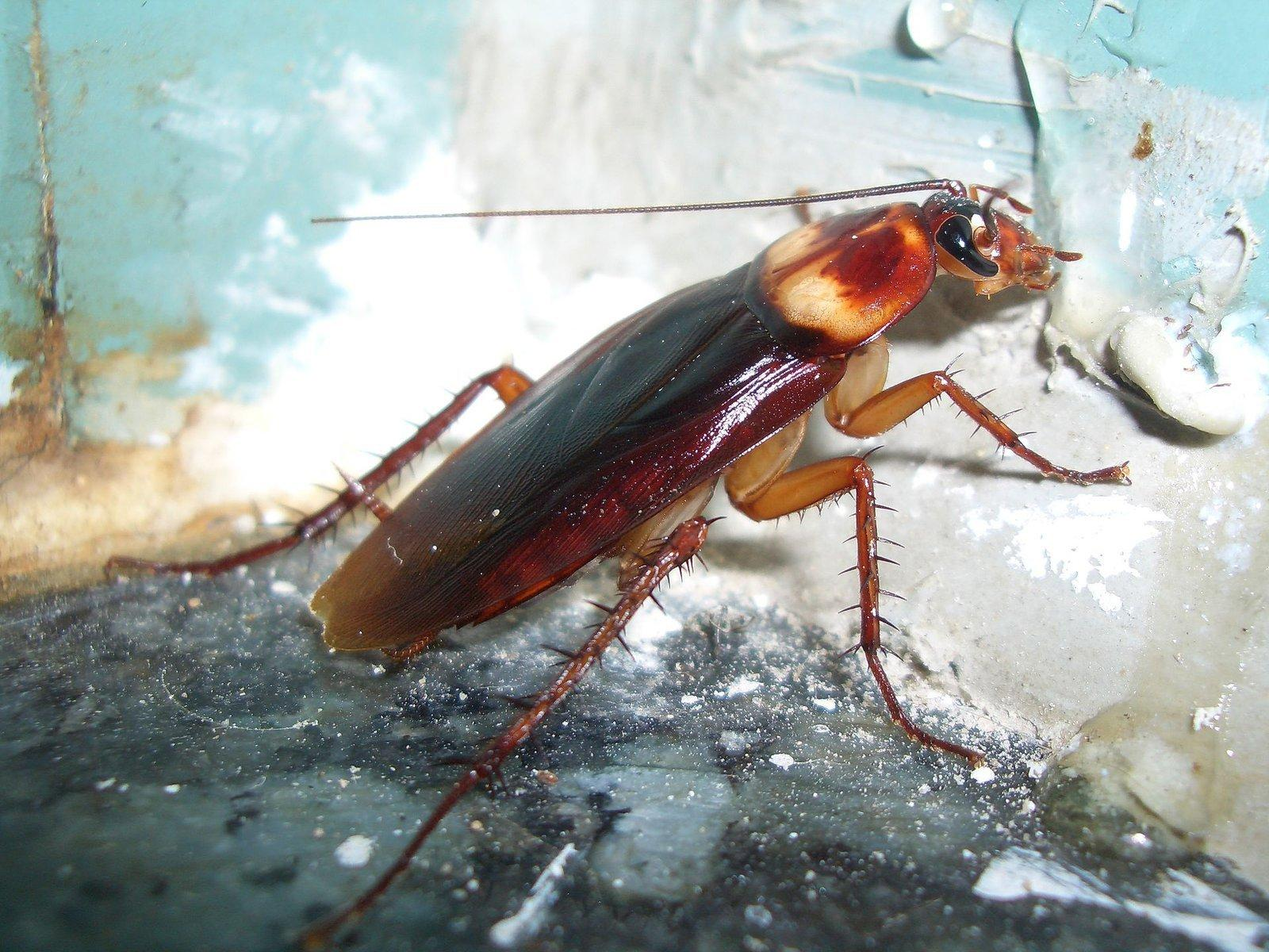cockroach: (314, 174, 1065, 665)
